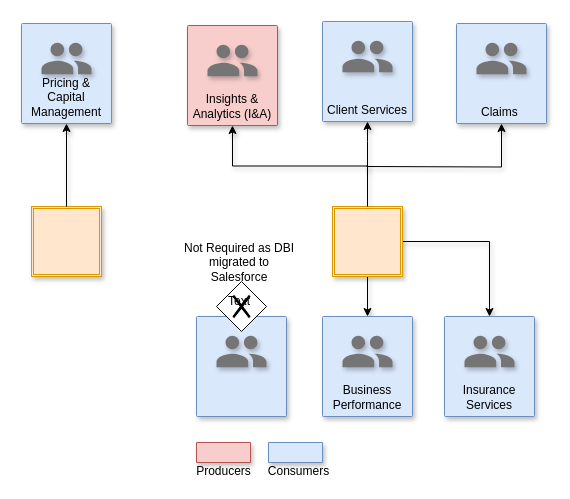
This 570x499 diagram has some shape labels left out. The centre of each missing label's shape, as x and y in pixels:
"Domestic Building Insurance (DBI)" belongs at pixel 242 368.
"SAS" belongs at pixel 67 243.
"SDI" belongs at pixel 368 243.
